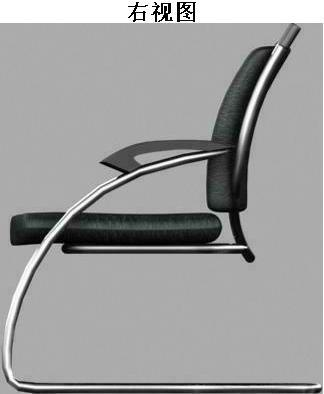obstacle: (13, 24, 321, 383)
